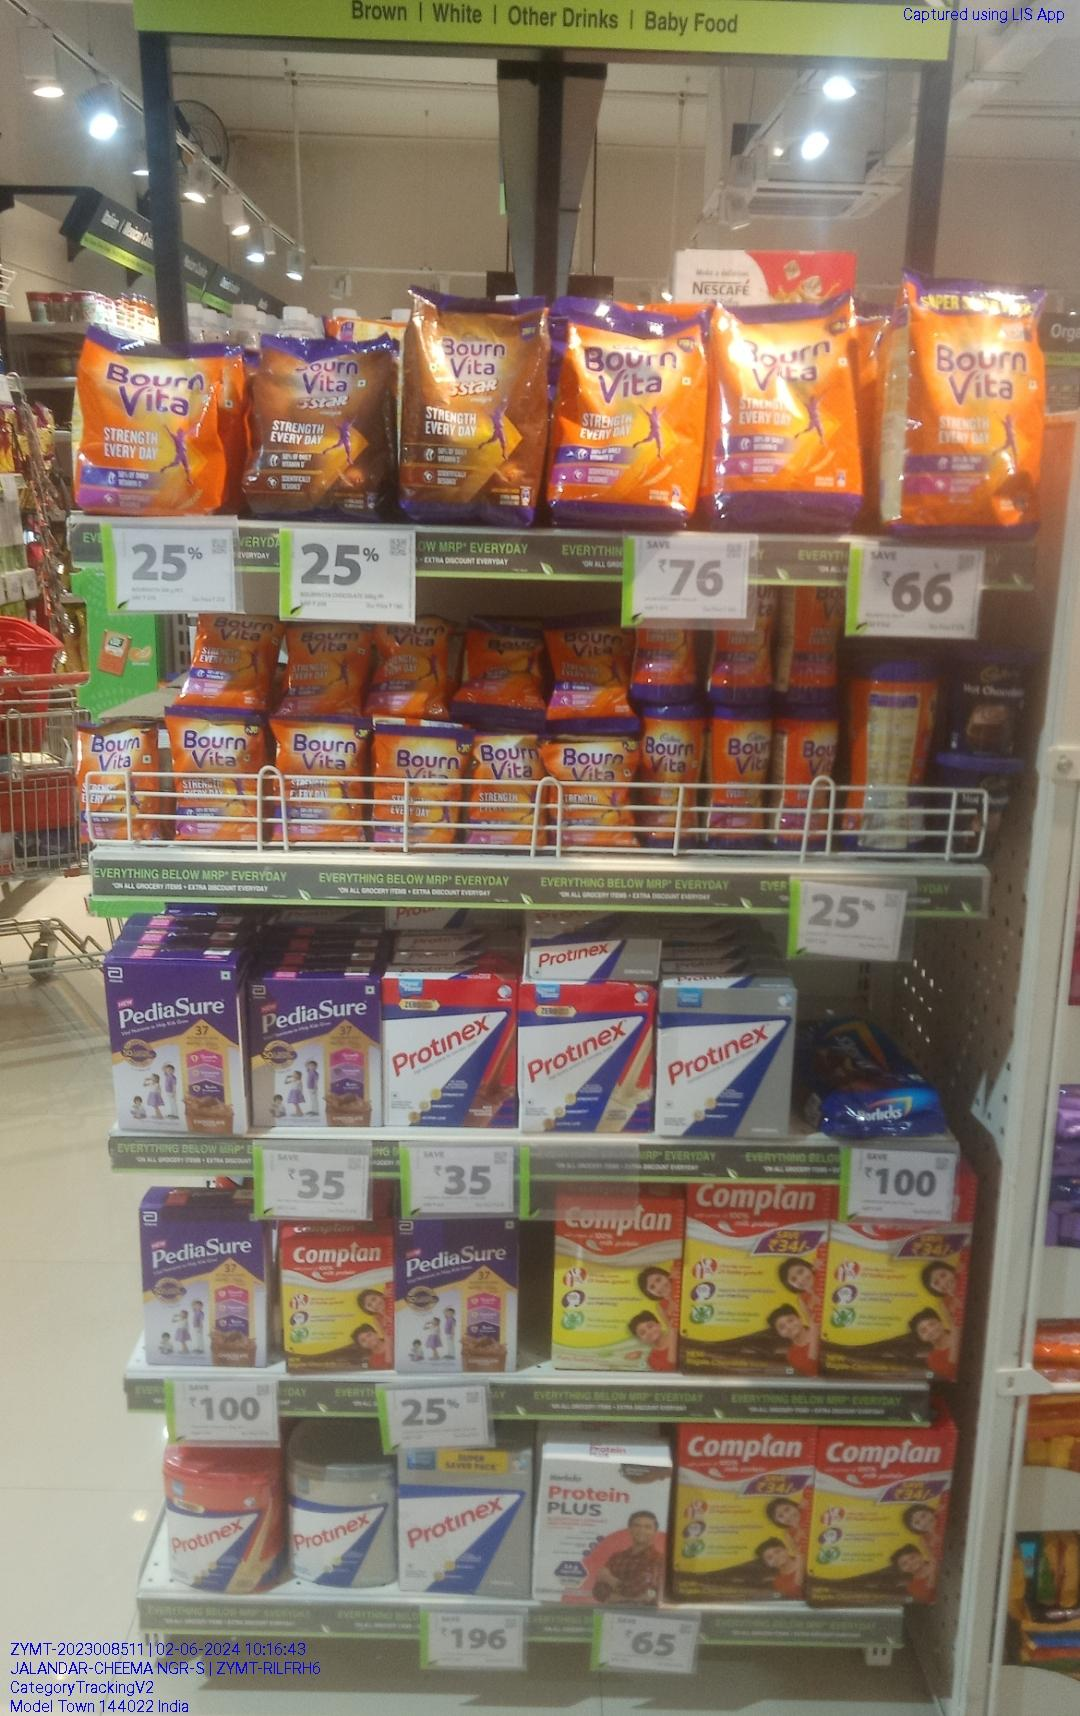BOURN_VITA_75_G_POUCH: (167, 709, 265, 844), (272, 713, 367, 850), (375, 723, 464, 847), (72, 723, 162, 844), (545, 743, 640, 851), (468, 732, 542, 854)
BOURN_VITA_FIVE_STAR_MAGIC_500_G_POUCH: (244, 330, 396, 525)
BOURN_VITA_FIVE_STAR_MAGIC_750_G_POUCH: (409, 273, 546, 524)
PEDIASURE_CHOCOLATE_500_G_PACK: (105, 959, 243, 1135), (138, 1208, 270, 1369), (396, 1223, 516, 1373)
PROTINEX_ORIGINAL_400_G_JAR: (287, 1461, 394, 1588)
PROTINEX_VANILLA_400_G_JAR: (163, 1456, 281, 1592)
